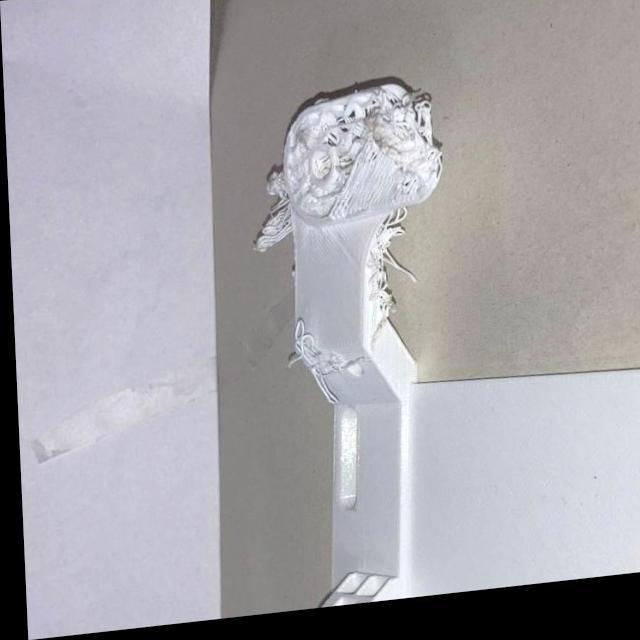spaghetti: (391, 105, 442, 183), (253, 206, 294, 255), (366, 264, 396, 326), (294, 334, 330, 379), (374, 226, 401, 266)
